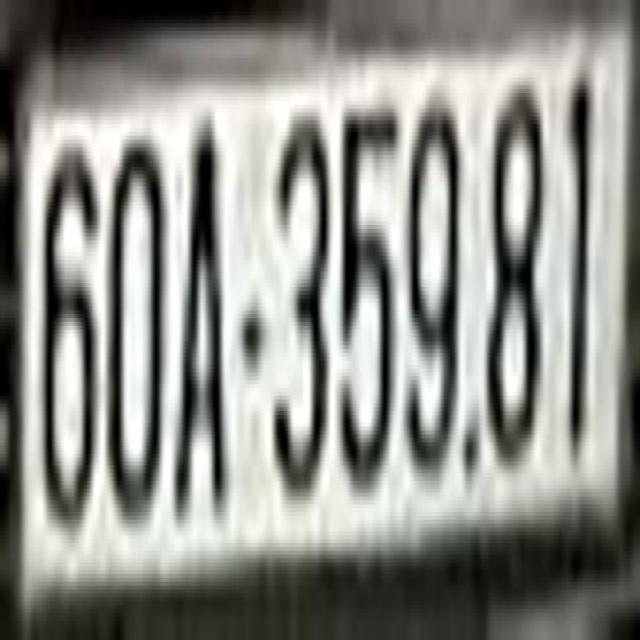0: (111, 128, 163, 535)
1: (562, 78, 592, 458)
3: (266, 112, 332, 485)
5: (338, 97, 399, 489)
6: (40, 140, 100, 512)
8: (493, 93, 544, 454)
9: (408, 85, 464, 485)
A: (177, 116, 224, 520)
